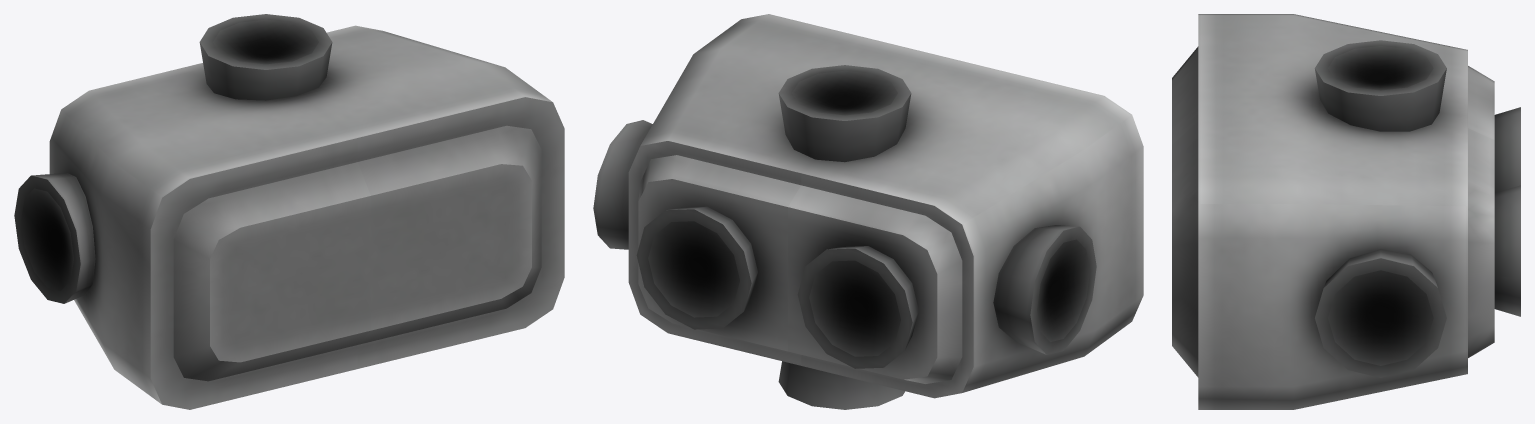
Rendered from Tantares_MOE_1_E.obj.
3 views of the same model, side by side, from view 1: azimuth 30°, elevation 25°; view 2: azimuth 150°, elevation 25°; view 3: azimuth 270°, elevation 25° (orthographic).
Parts seen in each view (by area): view 1: Tantares_MOE_1_E; view 2: Tantares_MOE_1_E; view 3: Tantares_MOE_1_E.
Part boxes in pixels (box(x1,y1,x2,y2)): Tantares_MOE_1_E: box(14, 14, 564, 409); Tantares_MOE_1_E: box(593, 14, 1143, 409); Tantares_MOE_1_E: box(1172, 14, 1520, 409).
Size of the model in its own units: 0.2375 by 0.15 by 0.165.
